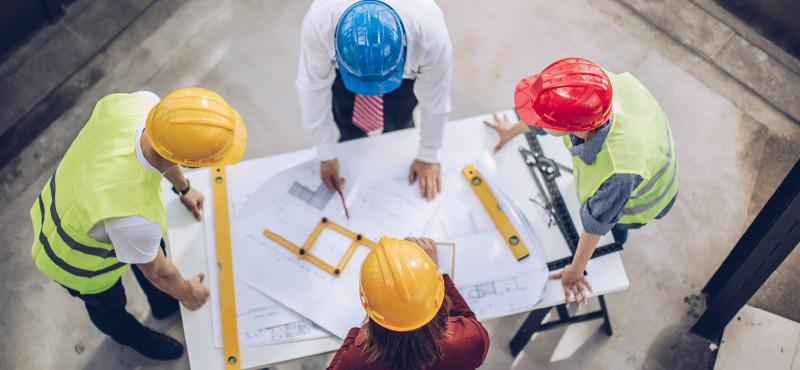hardhat: (146, 86, 248, 170), (360, 235, 447, 333), (512, 58, 616, 132), (336, 1, 410, 100)
worker: (32, 87, 250, 366), (483, 57, 680, 315), (292, 2, 458, 204), (325, 234, 494, 370)
